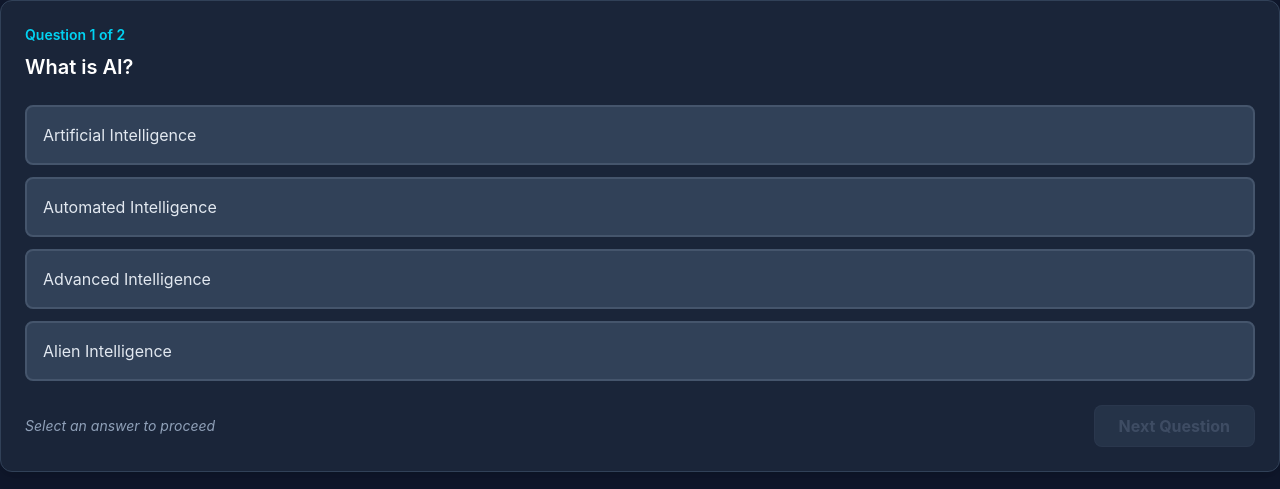
Scenario: QuizView Component › shows next question after answering
Note: Answer first question
Click the button "Artificial Intelligence". click: click(120, 135)
box: x1=25 y1=105 x2=1255 y2=165
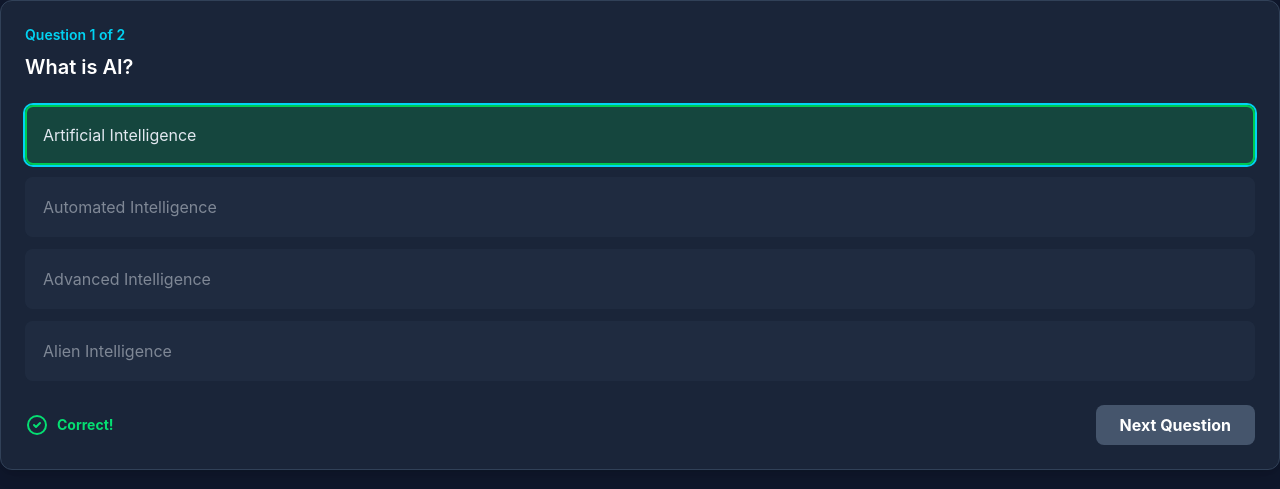
Click the button "Next Question". click: click(1175, 425)
box: x1=1096 y1=405 x2=1255 y2=445
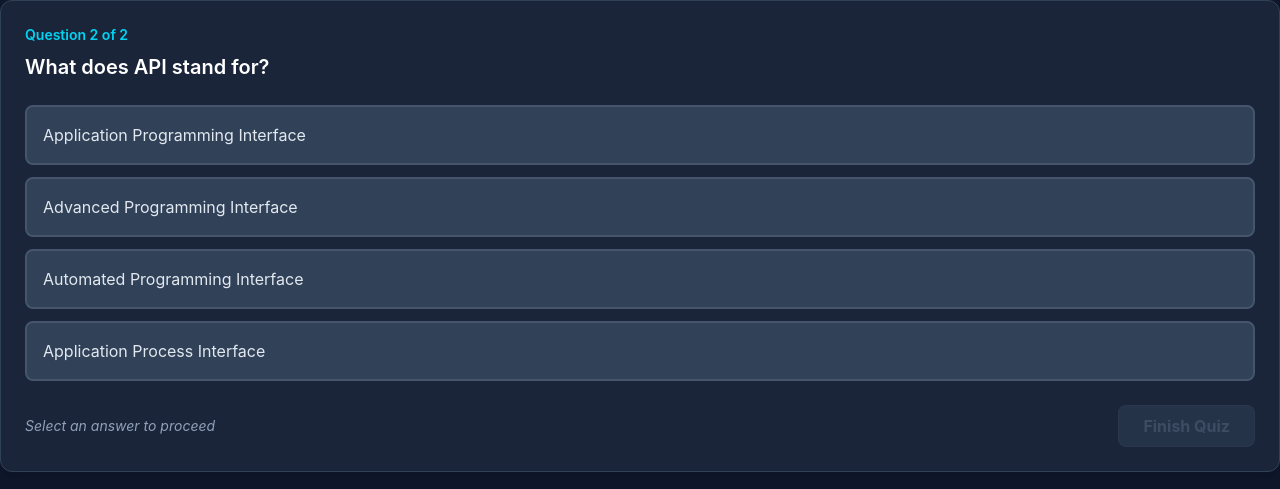
Expected: the heading "What does API stand for?" is shown, x1=25 y1=55 x2=269 y2=79
Expected: the text "Question 2 of 2" is shown, x1=25 y1=26 x2=128 y2=43
